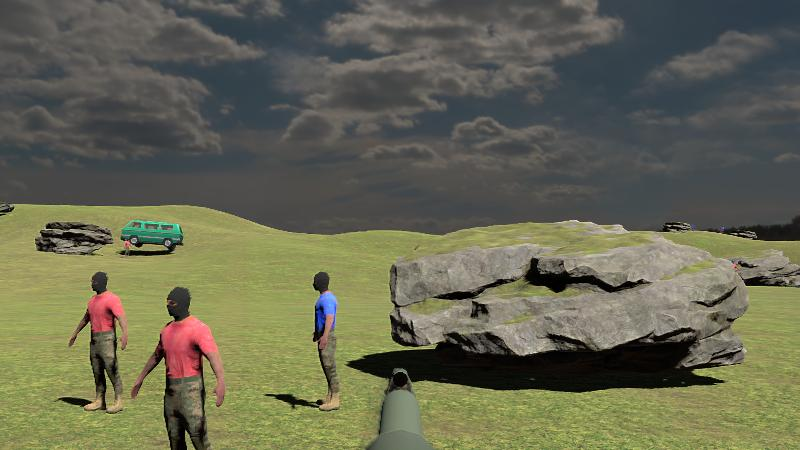Human: (131, 285, 225, 450), (68, 270, 128, 413), (312, 270, 339, 411)
car: (120, 220, 183, 251)
